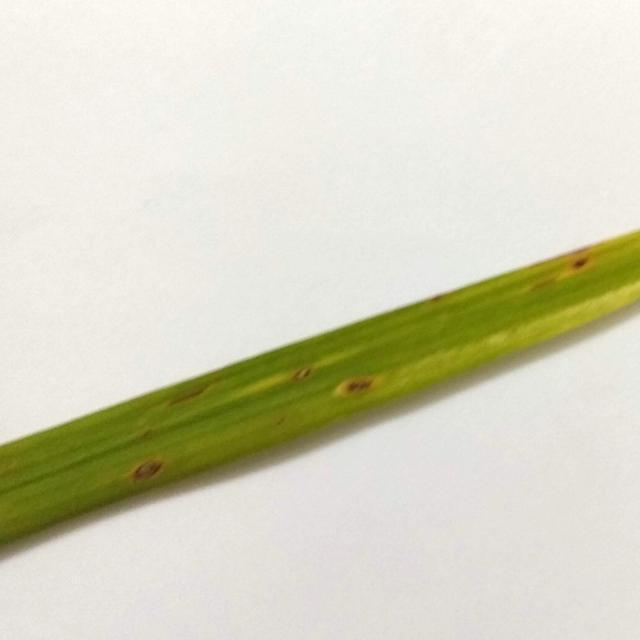Leaf_Blast: (534, 240, 631, 313), (299, 360, 395, 412), (109, 441, 186, 498)
